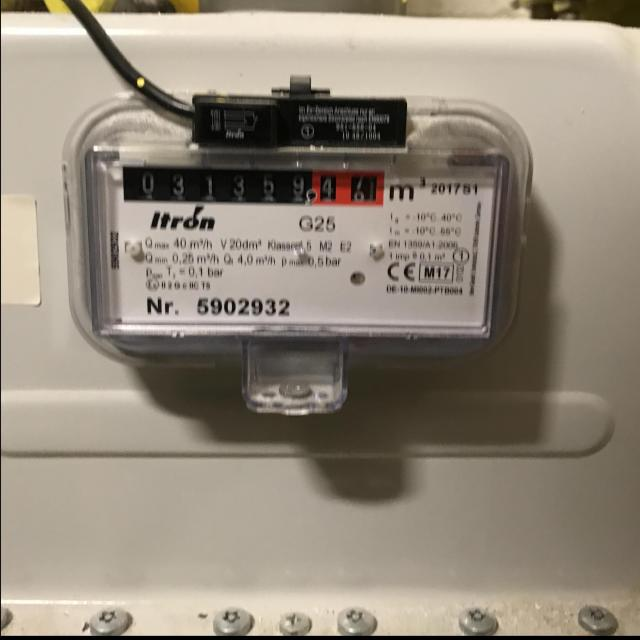gaz_meter: (98, 149, 490, 330)
indication: (122, 167, 384, 207)
